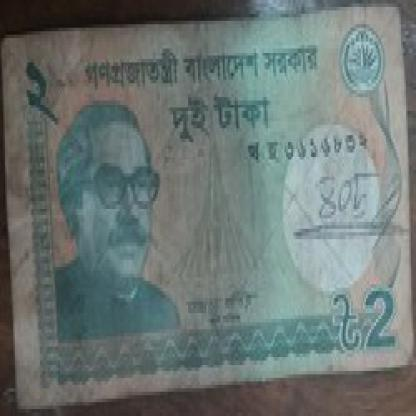two taka: (344, 274, 411, 367), (22, 59, 66, 139)
